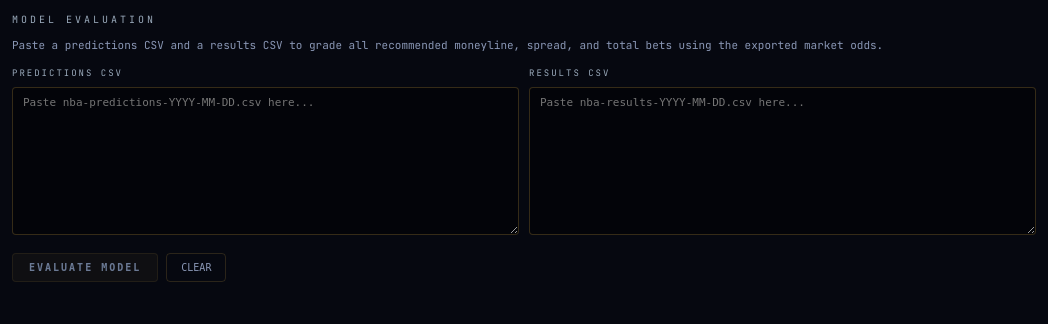
it: ModelEvaluation › shows a friendly error for malformed CSV input
Step 1. Type "bad csv" into the text box with placeholder "Paste nba-predictions-YYYY-MM-DD.csv here..." → (266,161), box left=12, top=87, right=519, bottom=235
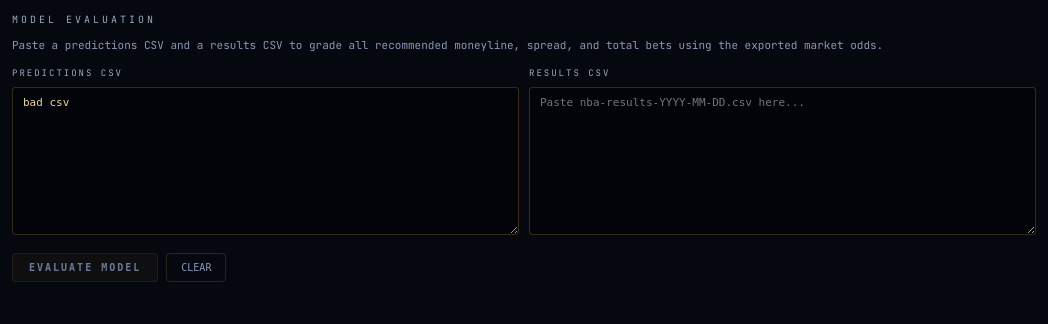
Step 2. Type "also bad" into the text box with placeholder "Paste nba-results-YYYY-MM-DD.csv here..." → (782,161), box left=529, top=87, right=1036, bottom=235
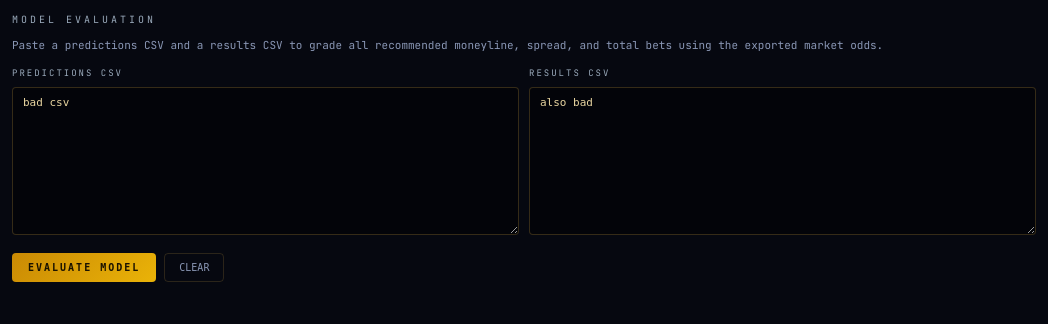
Step 3. Click the button "EVALUATE MODEL" → (84,268), box left=12, top=253, right=156, bottom=282
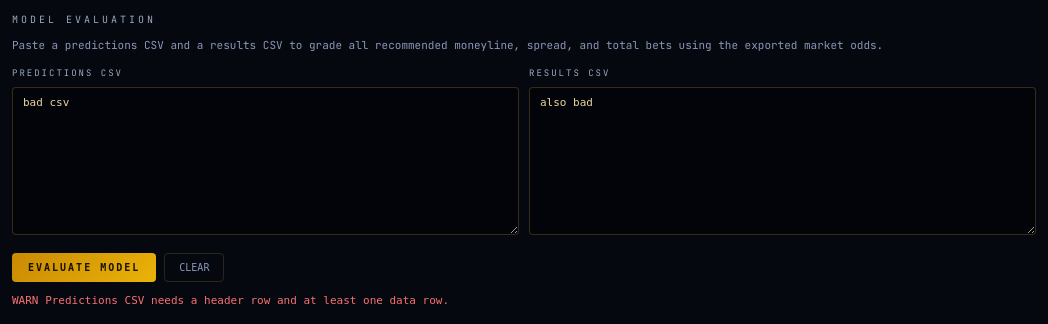
Check: the text "Predictions CSV needs a header row and at least one data row" is shown, box left=45, top=294, right=449, bottom=307
